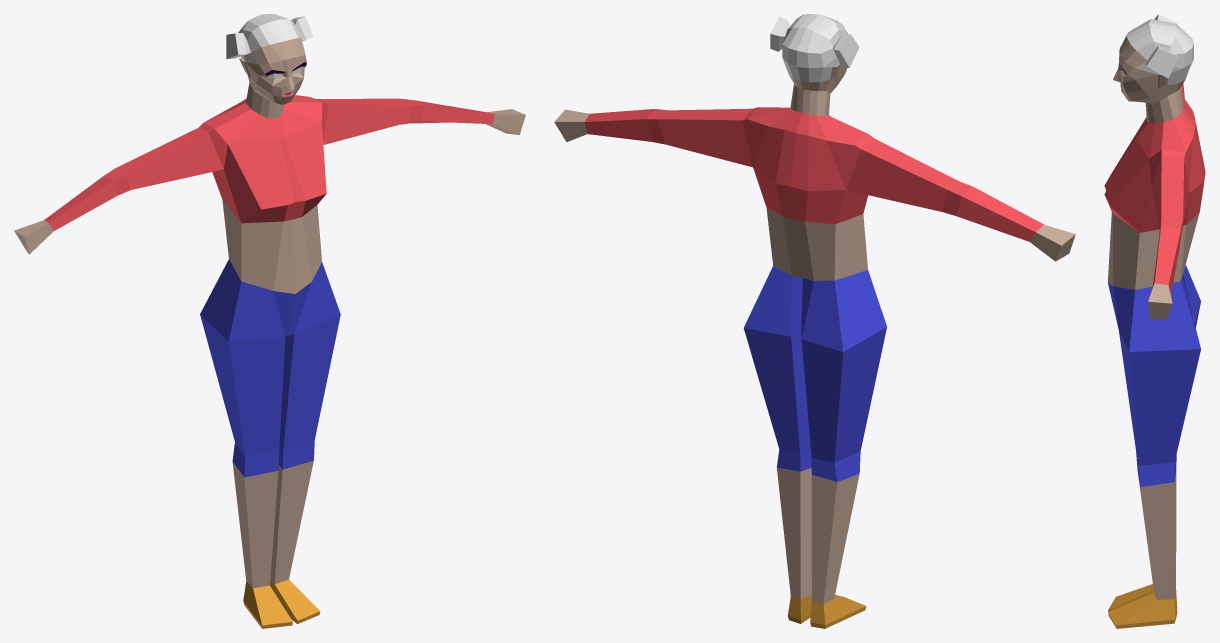
File: Ksuha.fbx
3 renders of one model, left to right at view 1: azimuth 30°, elevation 25°; view 2: azimuth 150°, elevation 25°; view 3: azimuth 270°, elevation 25°, orthographic.
Parts seen in each view (by area): view 1: body; view 2: body; view 3: body.
Part boxes in pixels (x1,y1,x2,y2): body: (14, 14, 525, 628); body: (554, 14, 1075, 628); body: (1104, 14, 1205, 628).
Size of the model in its own units: 1434 by 1612 by 250.
